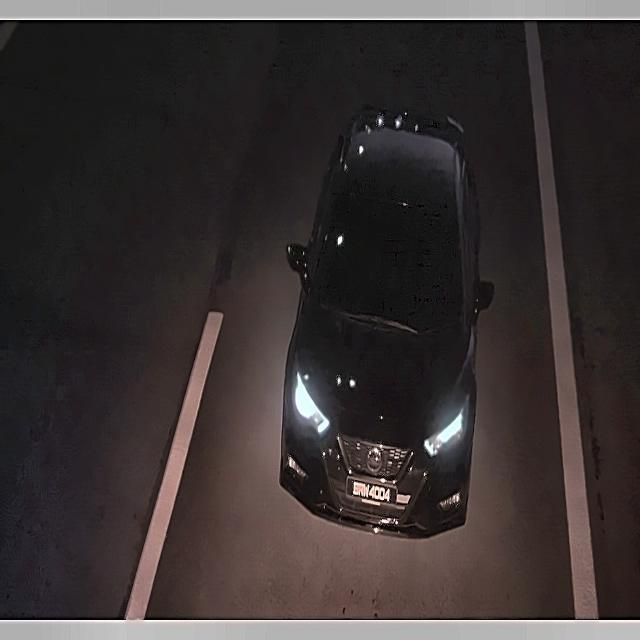car: (344, 466, 400, 512)
